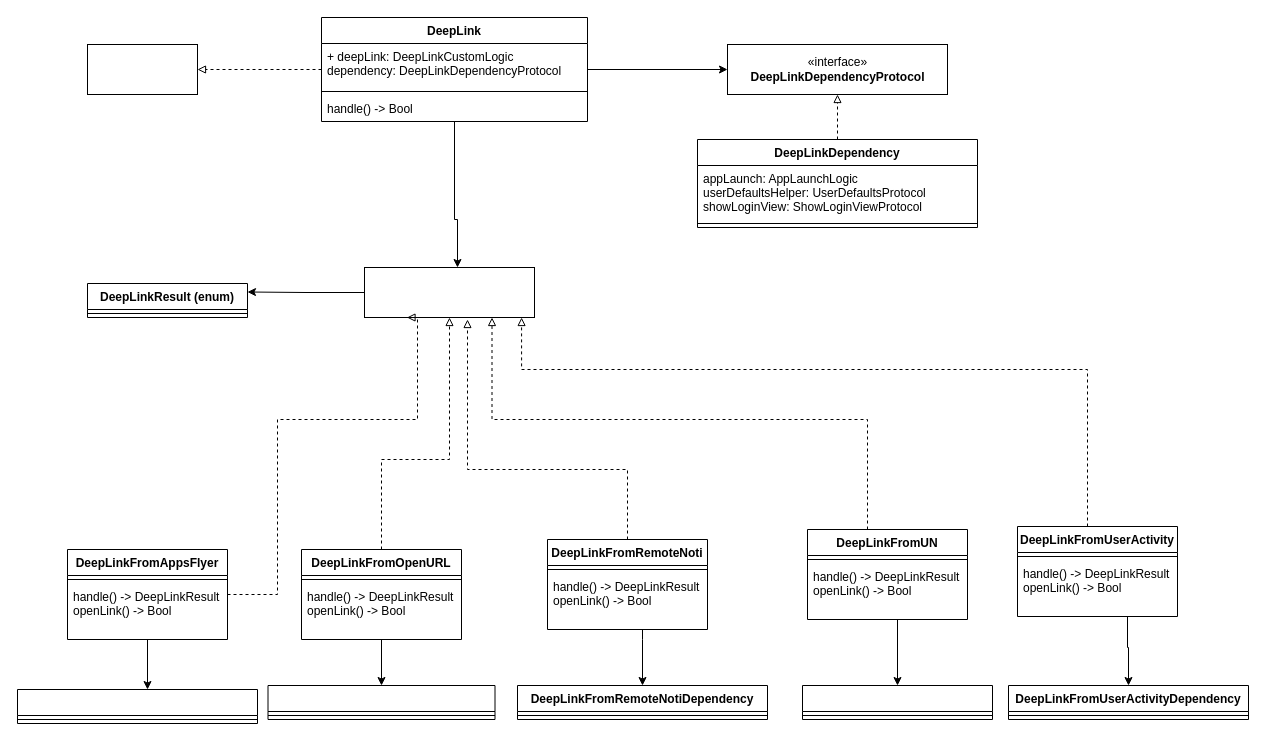
The diagram is 1266 pixels wide and 741 high, and some of its shapes have lost their labels. The centre of each missing label's shape, as x and y in pixels:
"DeepLinkFromAppsFlyerDependency" belongs at (137,706).
"DeepLinkFromOpenURLDependency" belongs at (381,702).
"DeepLinkFromUNDependency" belongs at (897,702).
"«interface» DeepLinkCustomLogic" belongs at (449,292).
"«interface» DeepLinkLogic" belongs at (142,69).
